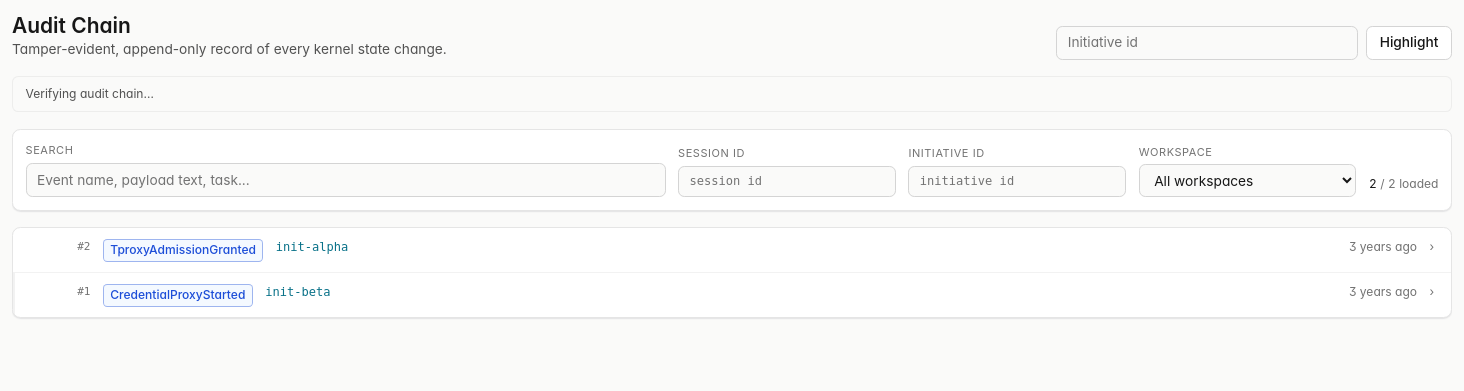
Test: <AuditPage> › filters loaded rows by partial event name and workspace
The width and height of the screenshot is (1464, 391).
Expected: the text "TproxyAdmissionGranted" is shown, [103,239,263,262]
Expected: the text "CredentialProxyStarted" is shown, [103,284,253,307]
Type "tproxy" into the field with placeholder "Event name, payload text, task..." at (346, 180), box [26,163,666,197]
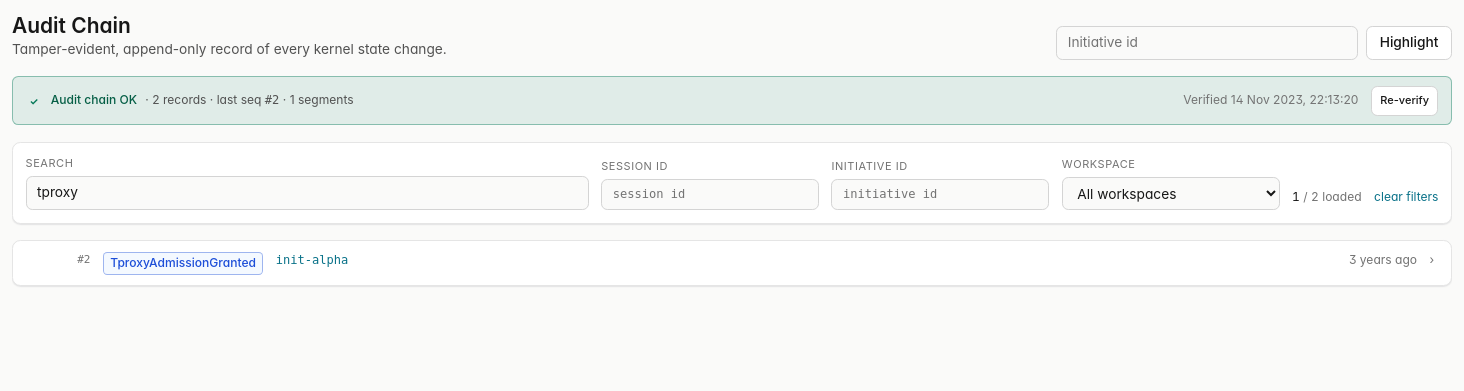
Expected: the text "TproxyAdmissionGranted" is shown, [103,252,263,275]
Expected: the button "CredentialProxyStarted" is gone
Select "Beta workspace" in the dropdown showing "All workspaces" at (1171, 194), box [1062,177,1280,210]
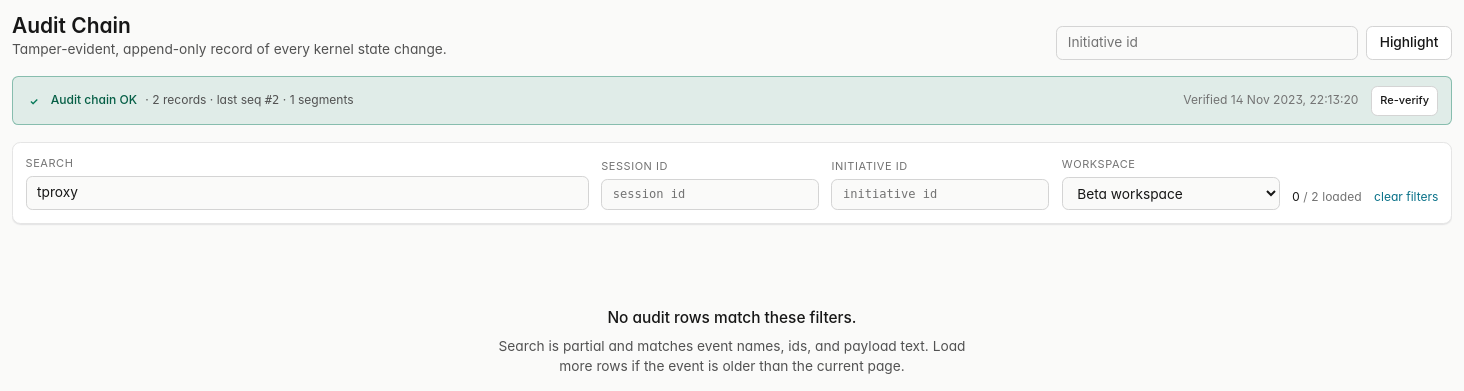
Expected: the text "No audit rows match these filters." is shown, [608,307,857,329]
